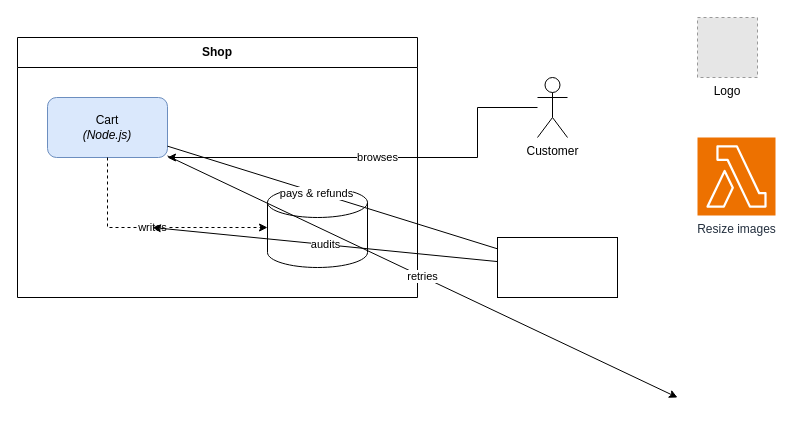
This 793x423 diagram has some shape labels left out. Grey dashed boxes stand in for pictures. The shapes that lost their labels are listed below. From the top down, each one's centre as x and y in pixels, then its label:
At pixel 317 227: "Orders".
At pixel 557 267: "Payments for Billing".
